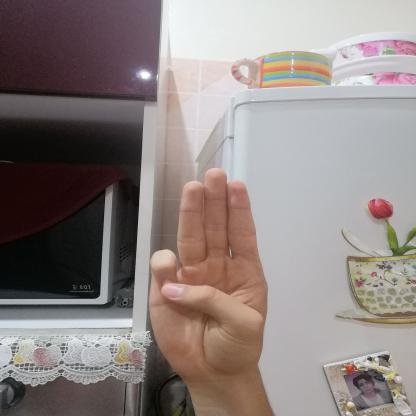THA: (130, 160, 288, 388)
